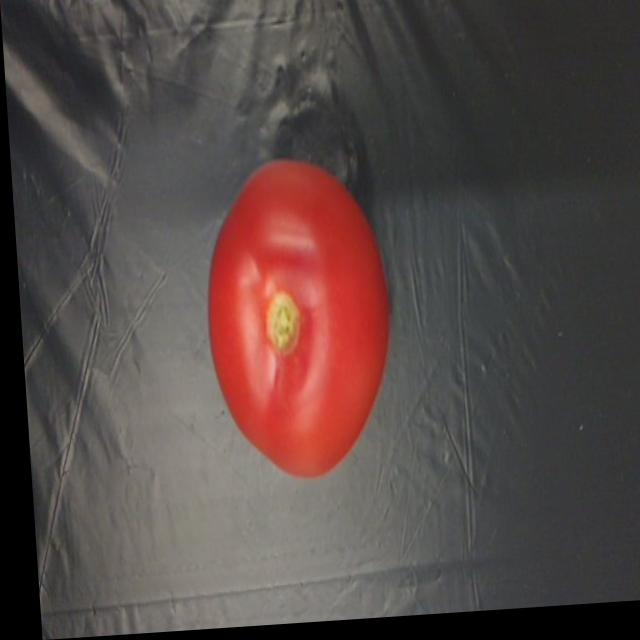kirmizi: (191, 153, 401, 487)
